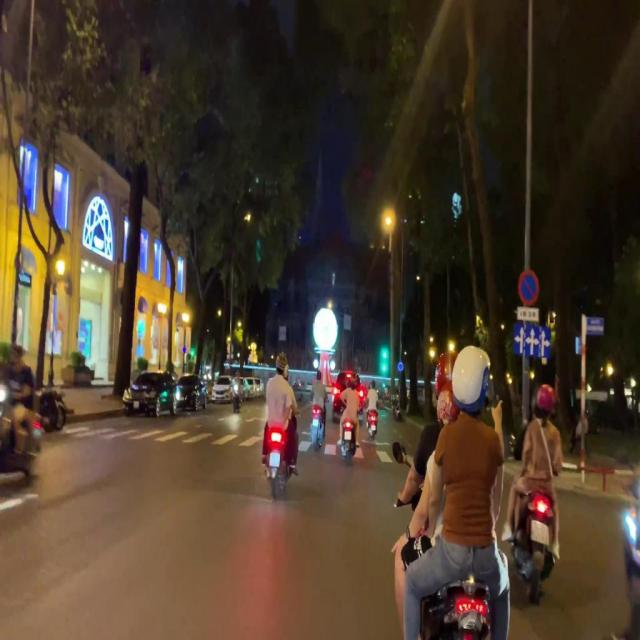cam_do_xe: (518, 271, 537, 303)
huong_di_tren_moi_lan_duong_theo_vach_ke_duong: (514, 322, 550, 357)
khac: (519, 307, 538, 320)
noi_giao_nhau_chay_theo_vong: (398, 361, 403, 372)
